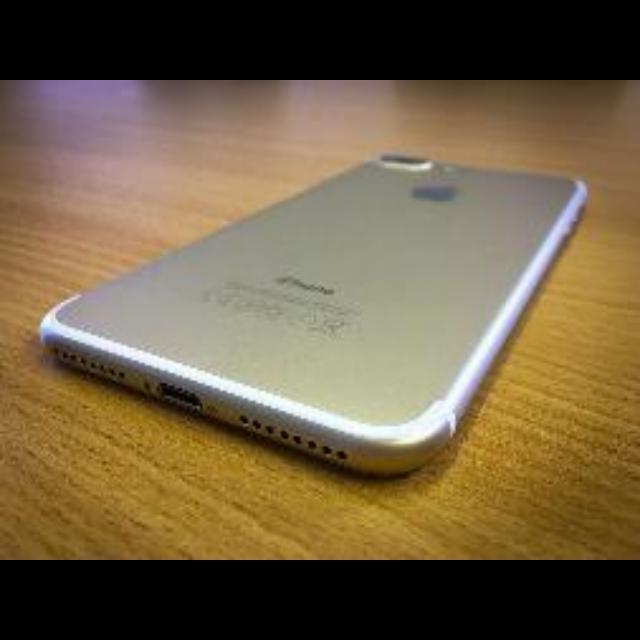PhoneUse: (40, 151, 592, 489)
